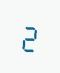two: (19, 19, 38, 53)
